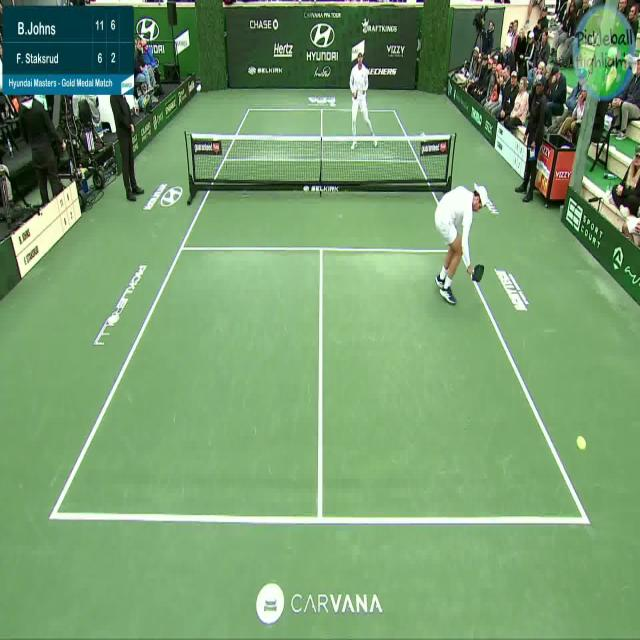ball: (576, 433, 588, 455)
